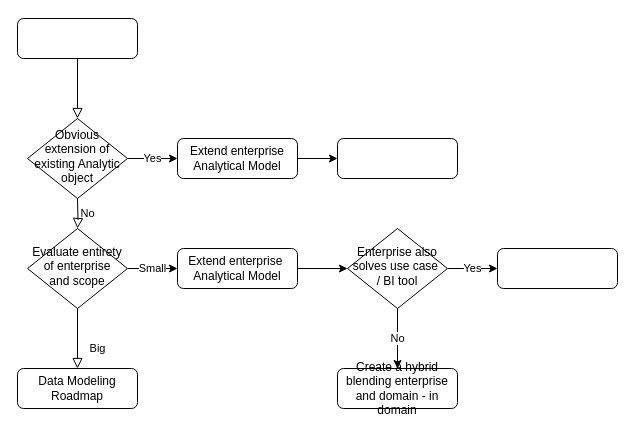
The diagram is 635 pixels wide and 435 high, and some of its shapes have lost their labels. Here are the shapes that lost their labels. From the top down, the centre of each, then its label:
At [77,38]: "Analytics with clear stable enterprise requirements".
At [397,158]: "Refactor other objects".
At [557,268]: "Consume directly / only from Enterprise".
